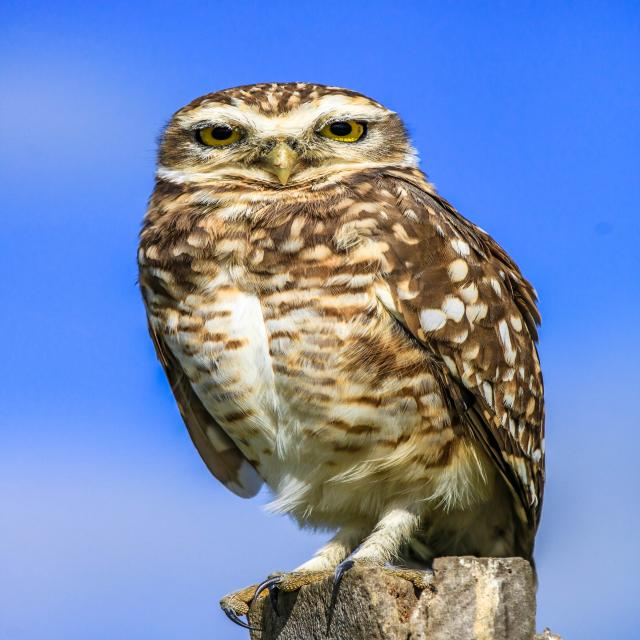Owl: (127, 75, 556, 638)
